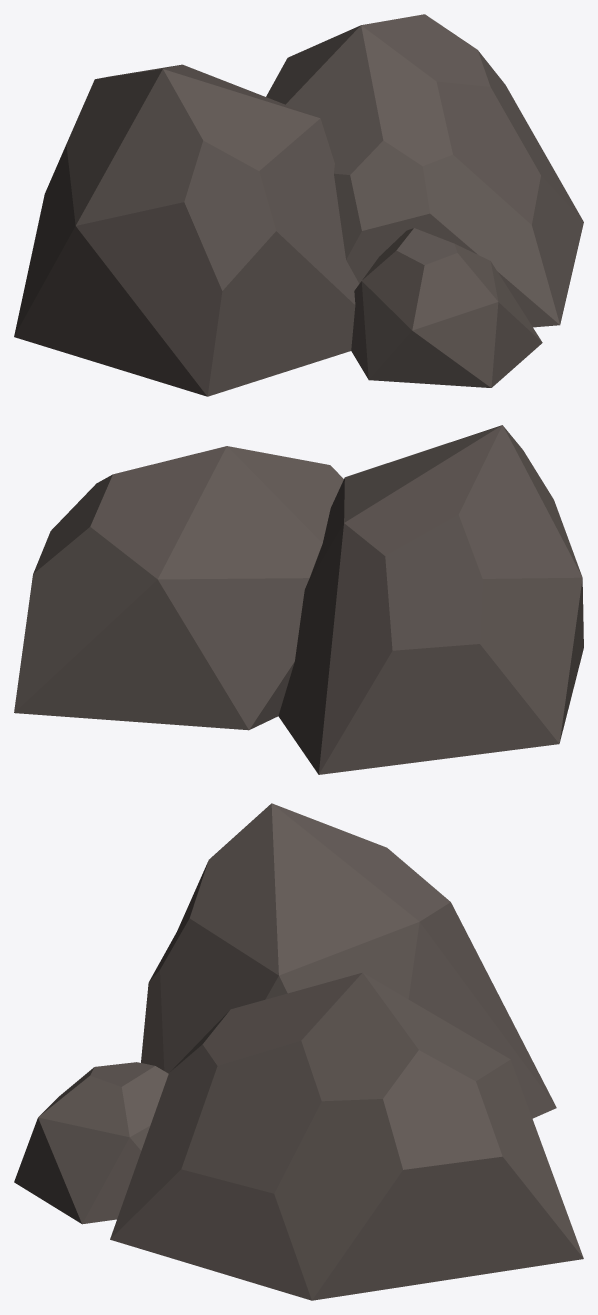
The model's file is Stone Obstacle.fbx.
3 renders of one model, top to bottom at view 1: azimuth 30°, elevation 25°; view 2: azimuth 150°, elevation 25°; view 3: azimuth 270°, elevation 25°, orthographic. The views are drawn at different scales.
Parts seen in each view (by area): view 1: Stone Obstacle; view 2: Stone Obstacle; view 3: Stone Obstacle.
Part boxes in pixels (x1,y1,x2,y2): Stone Obstacle: [14, 14, 583, 396]; Stone Obstacle: [14, 425, 583, 774]; Stone Obstacle: [14, 803, 583, 1300].
Size of the model in its own units: 1.36 by 0.6571 by 1.22.
